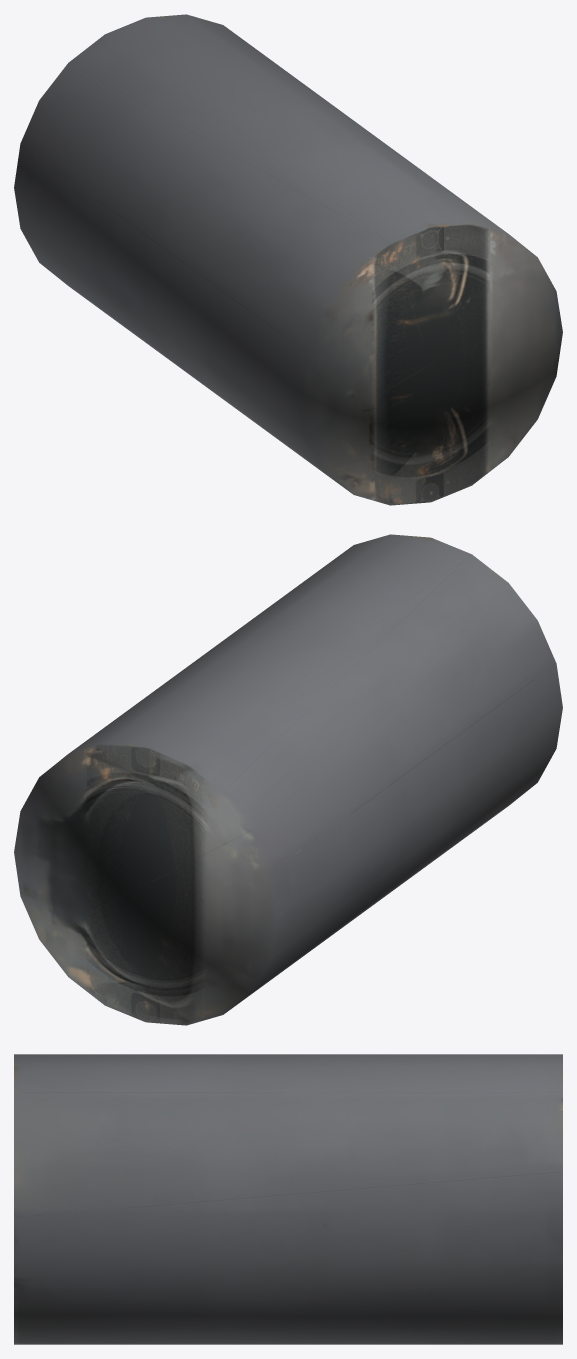
Rendered from WPN_Spinal_Bouche.glb.
3 renders of one model, top to bottom at view 1: azimuth 30°, elevation 25°; view 2: azimuth 150°, elevation 25°; view 3: azimuth 270°, elevation 25°, orthographic. The views are drawn at different scales.
Size of the model in its own units: 1.07 by 1.07 by 2.
Materials: 1 (1 with a texture image).
